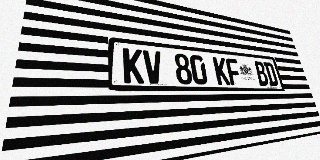0: (189, 54, 208, 85)
8: (173, 53, 193, 84)
B: (253, 61, 270, 86)
D: (263, 62, 279, 86)
F: (225, 58, 243, 85)
K: (123, 48, 144, 84), (212, 57, 230, 85)
V: (143, 50, 164, 84)
